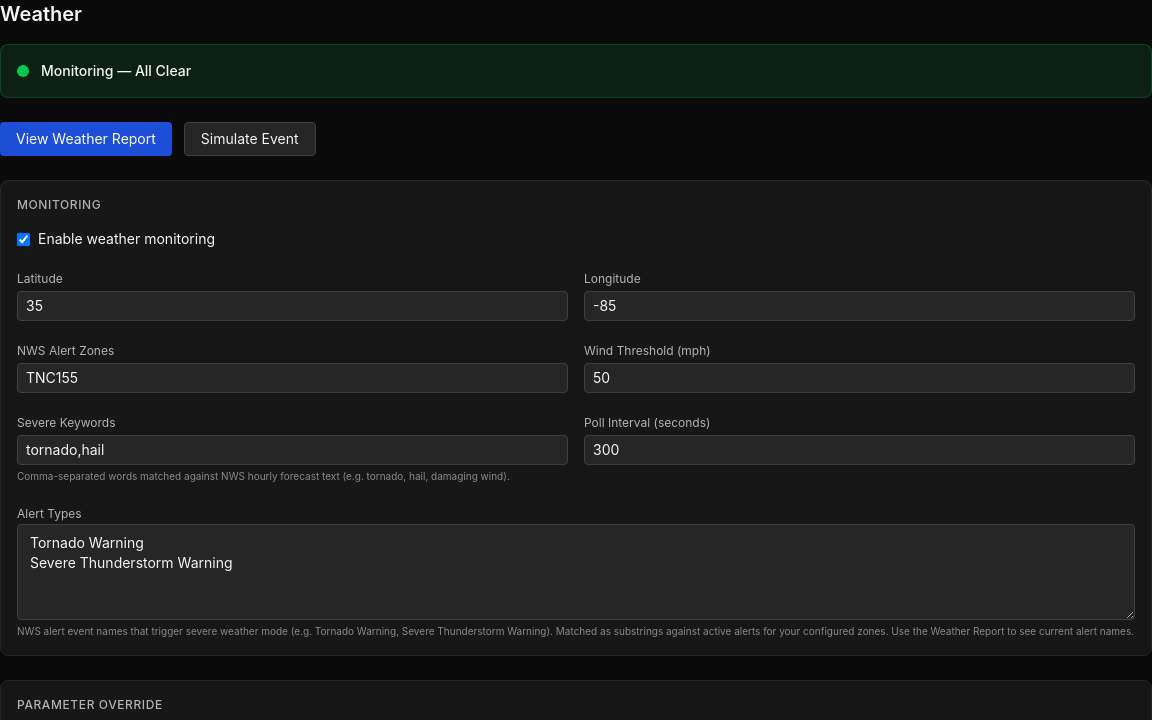
Test: WeatherConfig — Actions › opens weather report modal
Click the button "View Weather Report". click: (86, 139)
box: [0,122,172,156]
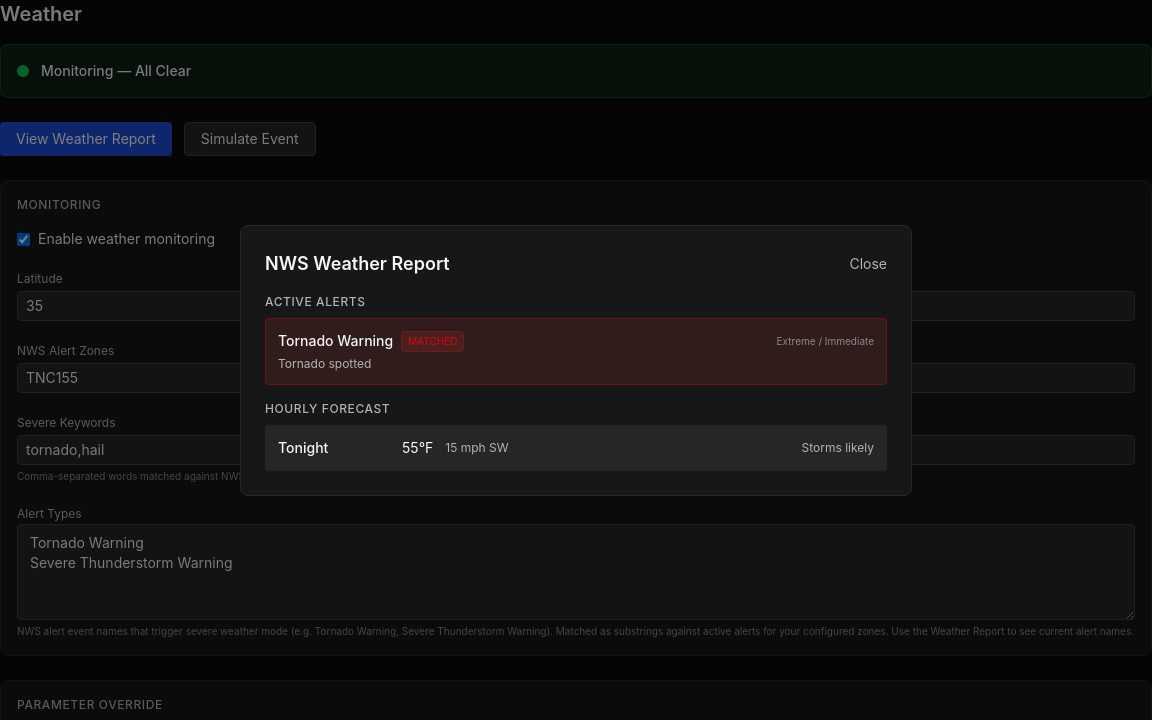
Result: the heading "NWS Weather Report" is shown at [265,250,450,278]
Result: the text "Tornado Warning" is shown at [278,331,393,351]
Result: the text "MATCHED" is shown at [401,330,464,352]
